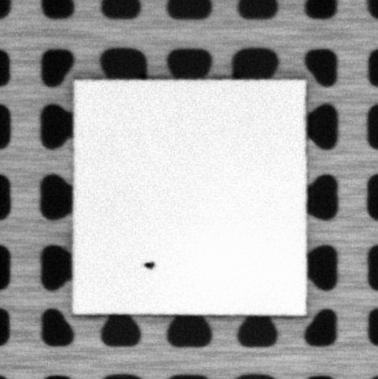DIE_INK: (142, 259, 157, 270)
